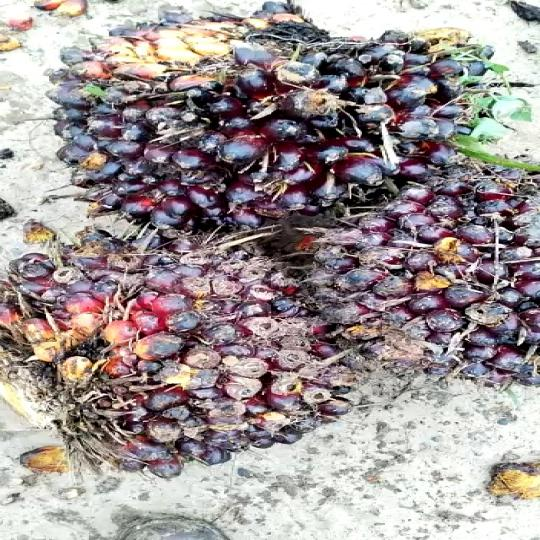kurang masak: (0, 215, 367, 495), (56, 9, 528, 215), (332, 166, 540, 406)
